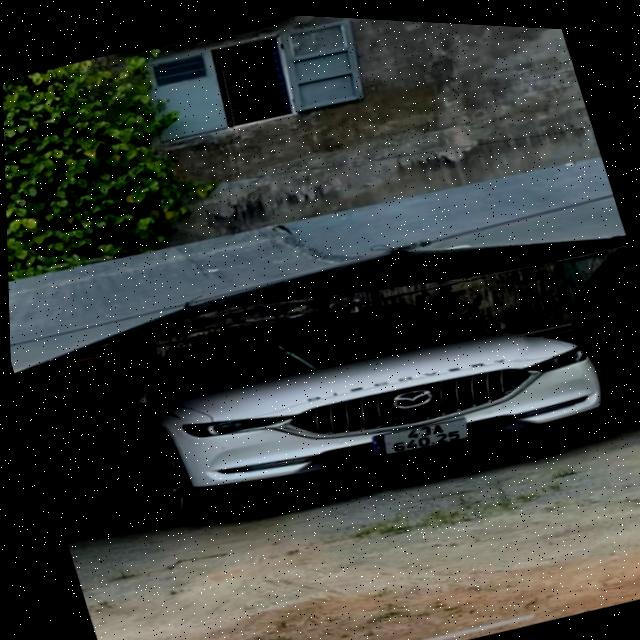car: (78, 227, 629, 582)
plate: (359, 398, 484, 474)
